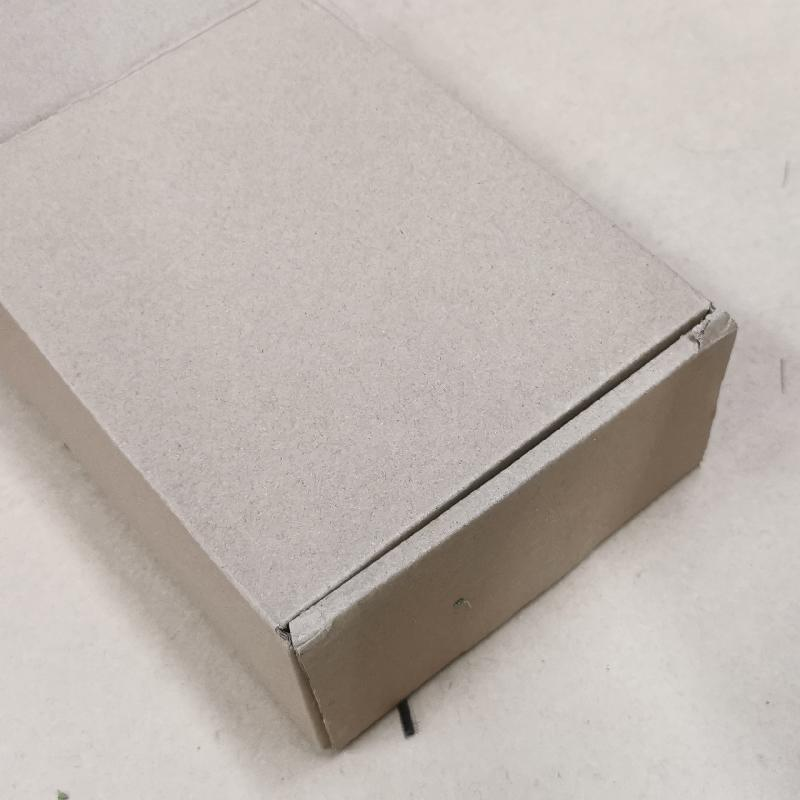boxes: (3, 3, 745, 750)
